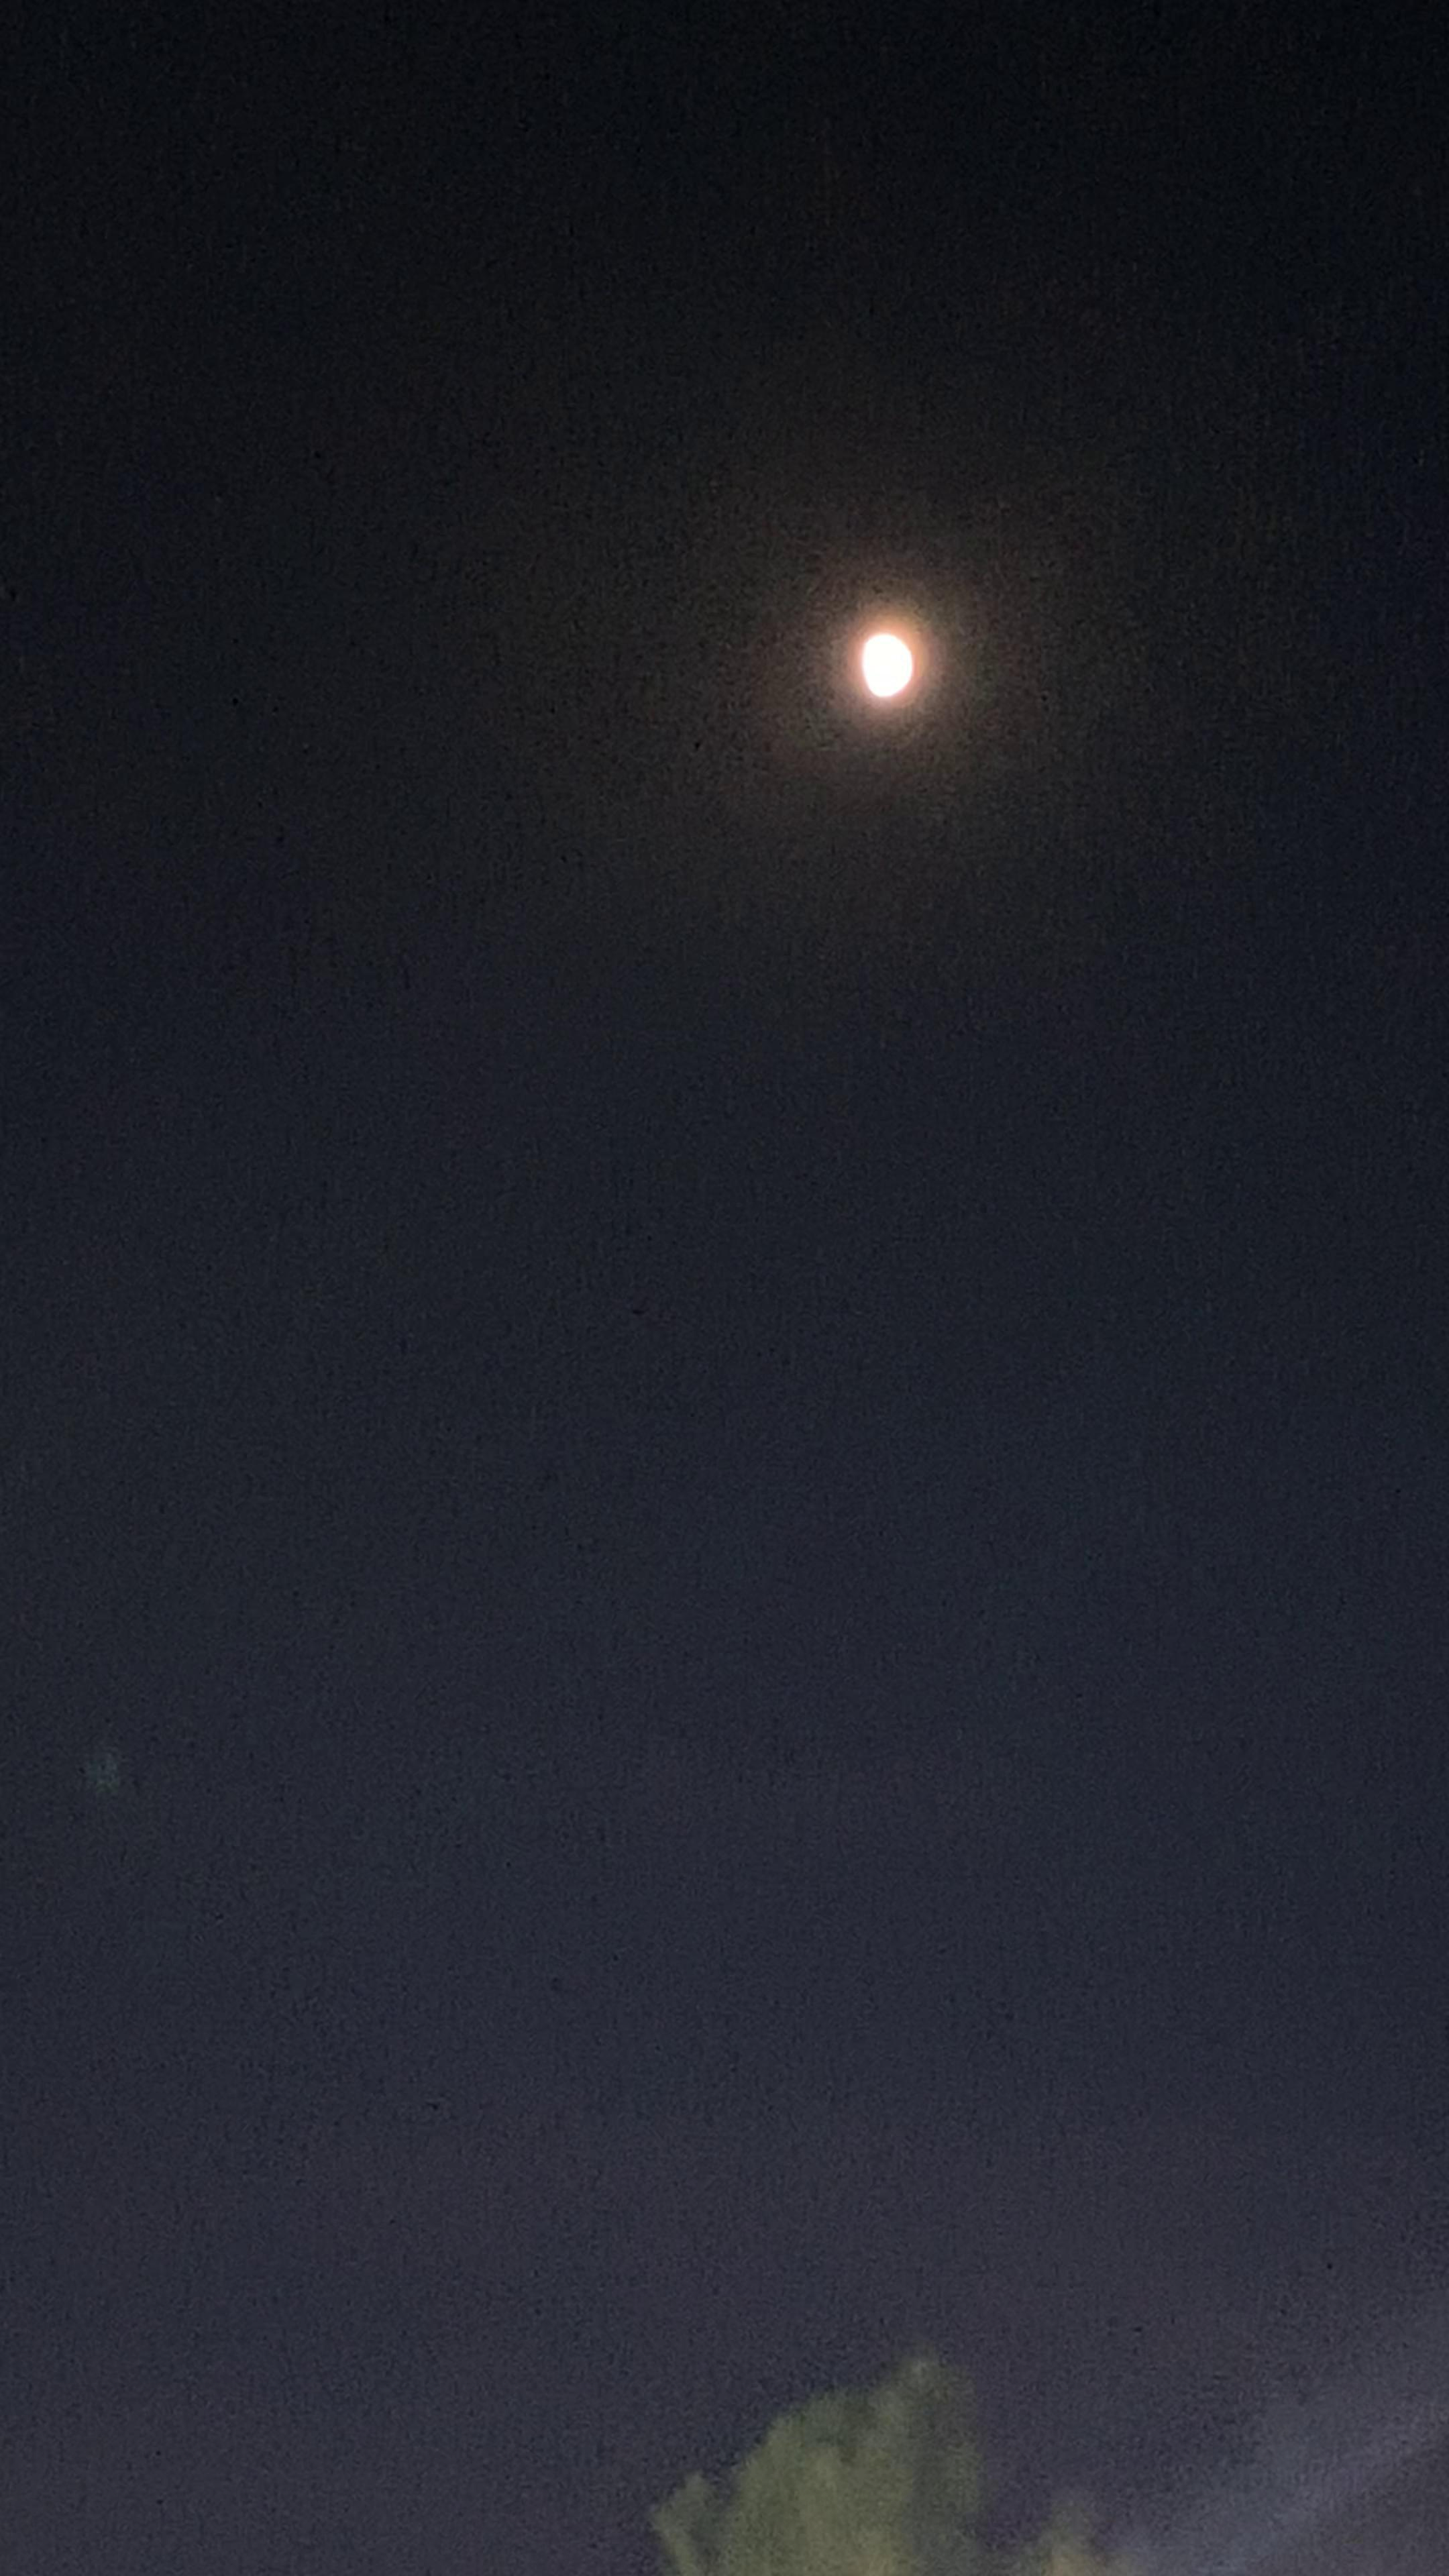moon: (800, 591, 959, 736)
